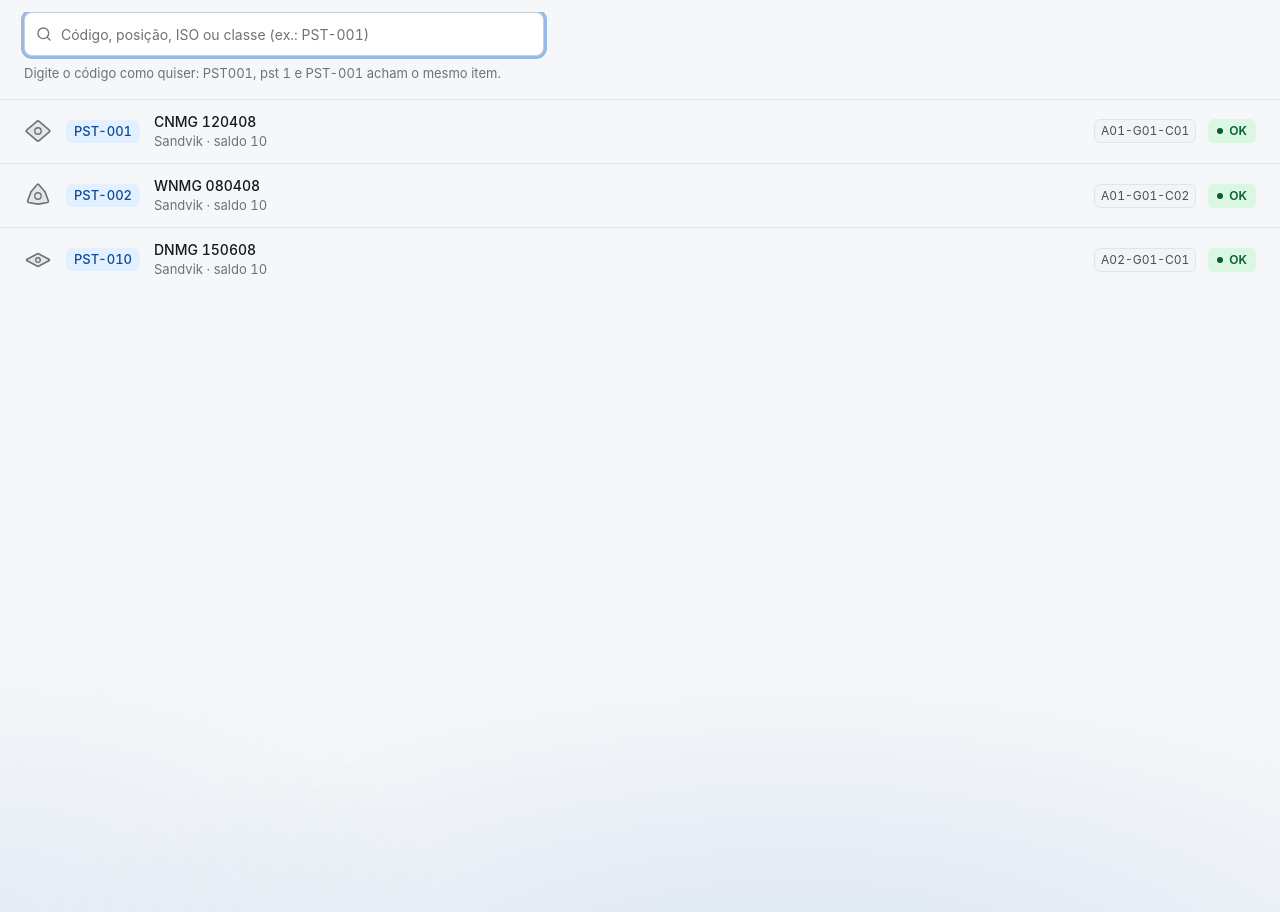
Scenario: RF-08 · Escolha do item com autocompletar › nada parecido: explica e não abre nada com Enter
Type "xyz" into the dropdown. click: (284, 34)
box: [24,12,544,56]
Then press Enter
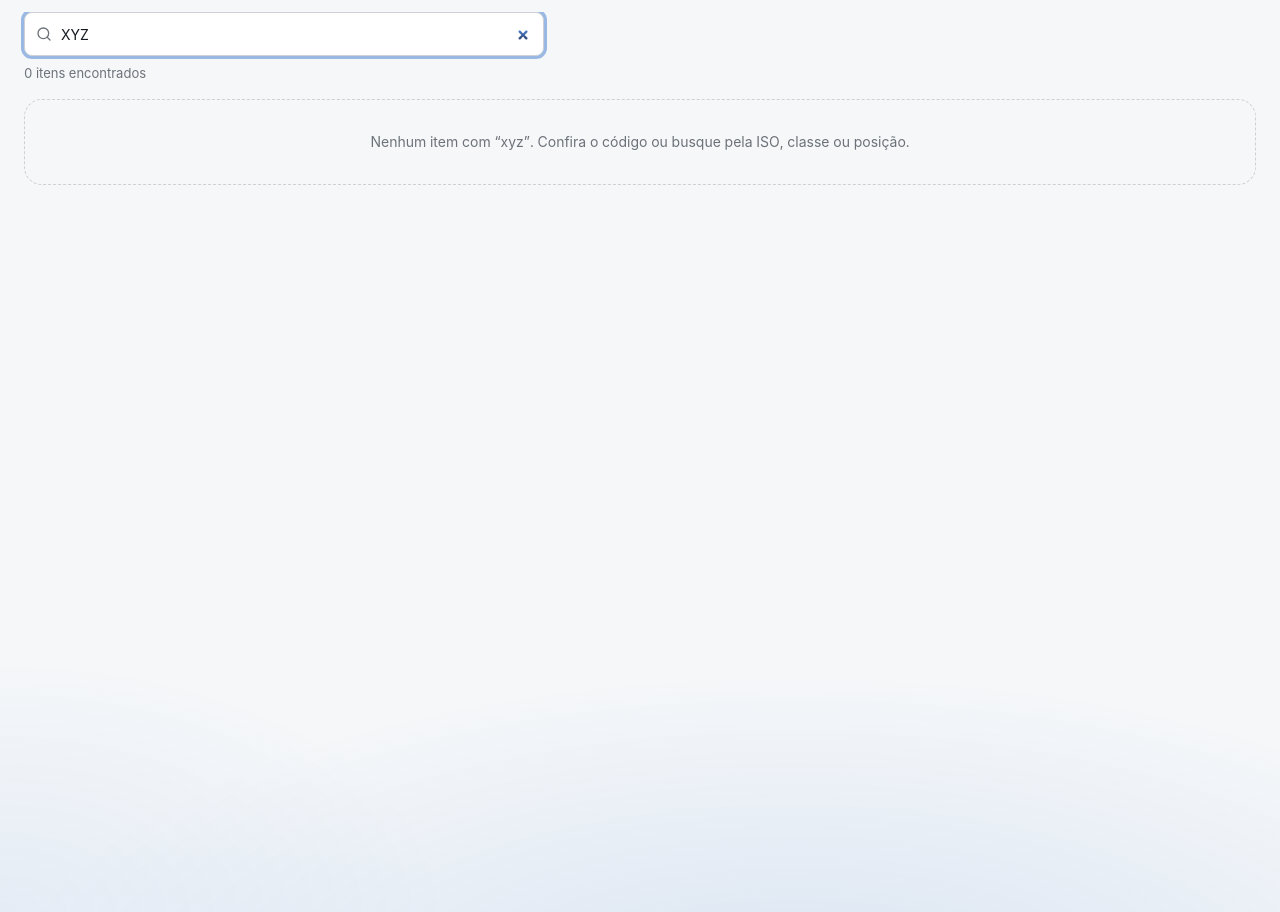
Expected: the text "Nenhum item com “xyz”" is shown, [24,99,1256,185]
